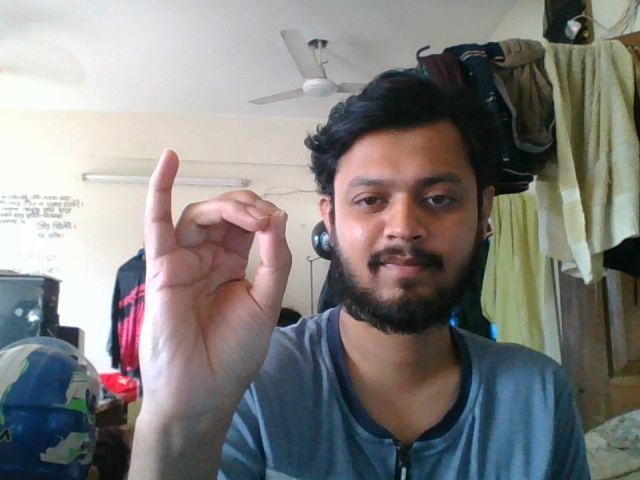ou: (129, 144, 297, 462)
